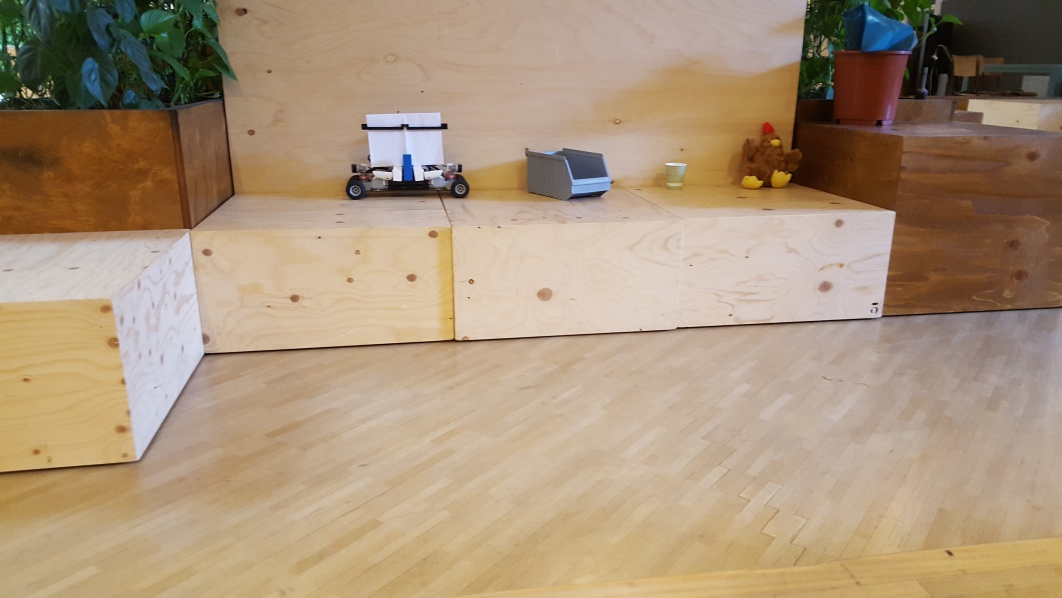car: (347, 111, 470, 201)
chicken: (738, 119, 805, 191)
cup: (663, 160, 687, 188)
tray: (524, 147, 616, 200)
